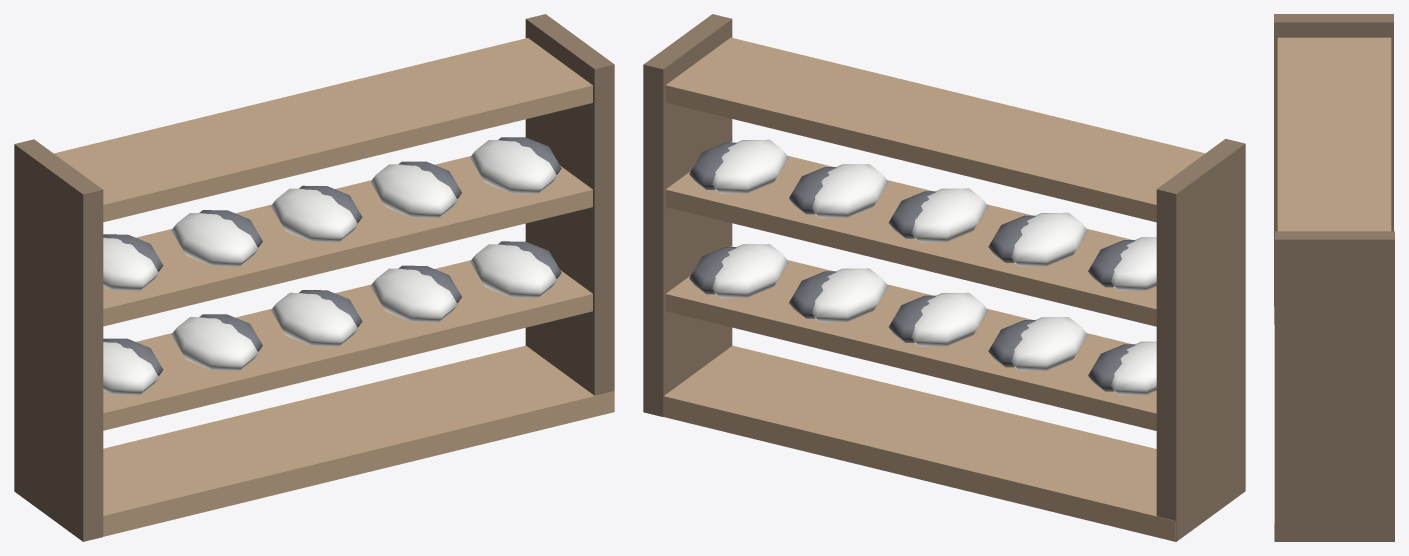
File: martial-arts-dojo-and-fight-stages-shoe-rack-07f16cc1__18073.glb
3 views of the same model, side by side, from view 1: azimuth 30°, elevation 25°; view 2: azimuth 150°, elevation 25°; view 3: azimuth 270°, elevation 25° (orthographic). The views are drawn at different scales.
Parts seen in each view (by area): view 1: shoe-rack; view 2: shoe-rack; view 3: shoe-rack.
Part boxes in pixels (x1,y1,x2,y2): shoe-rack: (14,14,614,541); shoe-rack: (643,14,1245,541); shoe-rack: (1274,14,1394,541).
Size of the model in its own units: 1.6 by 1 by 0.3623.
